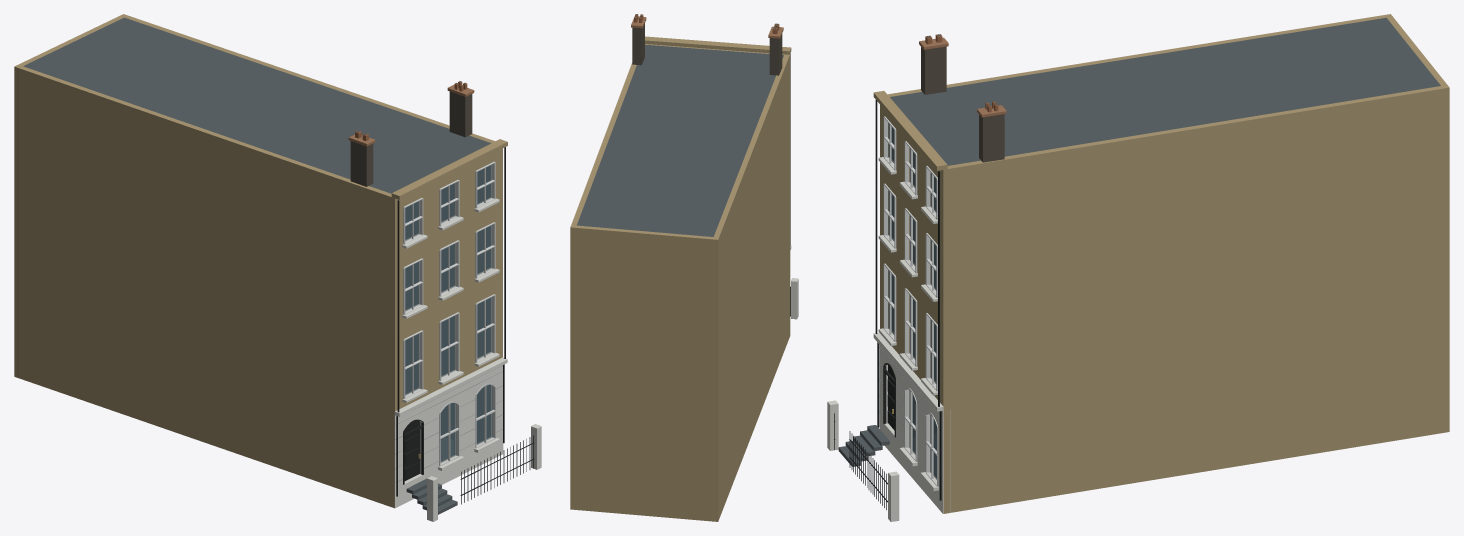
Rendered from 5lf-exterior-98f9e5eac66f.glb.
The picture shows the model from 3 angles, left to right: view 1: azimuth 30°, elevation 25°; view 2: azimuth 150°, elevation 25°; view 3: azimuth 270°, elevation 25°; orthographic projection. The views are drawn at different scales.
Parts seen in each view (by area): view 1: 5LF.001; view 2: 5LF.001; view 3: 5LF.001.
Part boxes in pixels (left/top/right/bottom): 5LF.001: left=14, top=14, right=541, bottom=521; 5LF.001: left=570, top=14, right=798, bottom=521; 5LF.001: left=827, top=14, right=1449, bottom=521.
Size of the model in its own units: 14.28 by 16.24 by 22.93.
